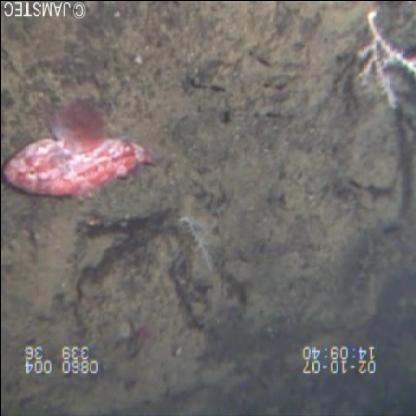Bio: (1, 92, 165, 207)
